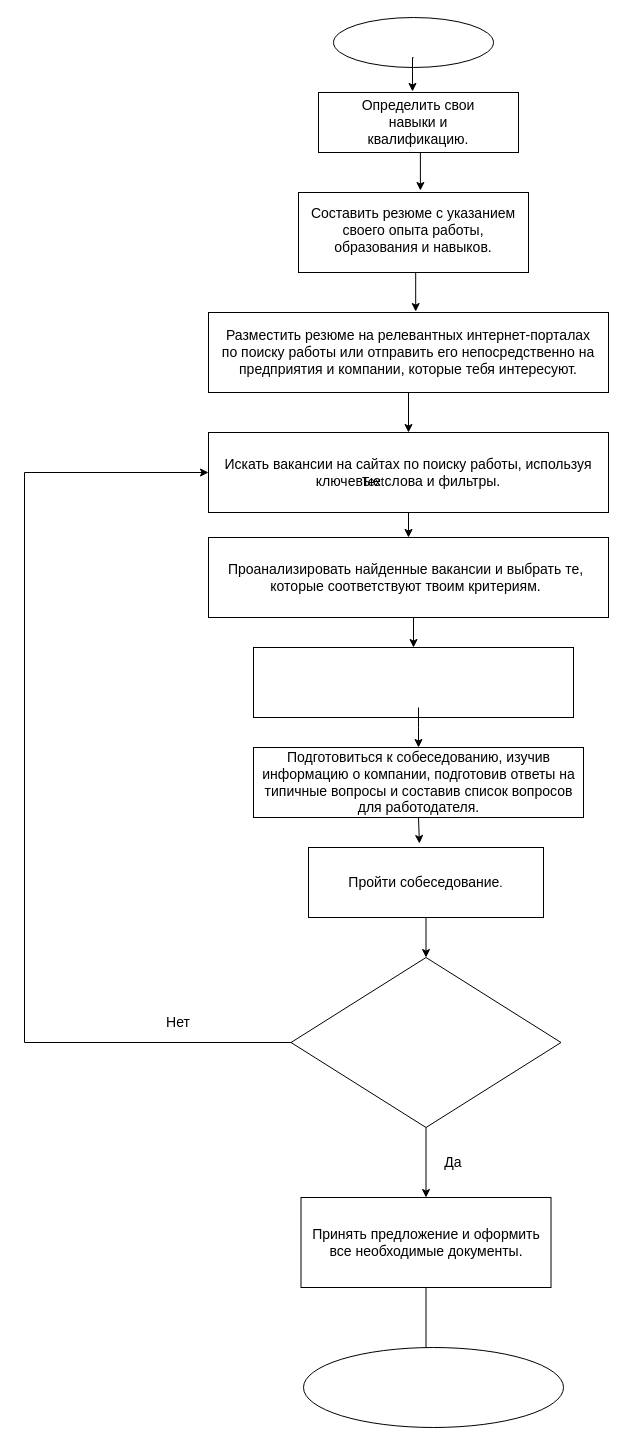
Some shapes in this 626 by 1445 pixel diagram are drawn without their labels. The centre of each missing label's shape, as x and y in pixels:
"Закончить поиск работы." belongs at point 433,1387.
"Начать поиск работы." belongs at point 413,42.
"Отправить свое резюме на выбранные вакансии." belongs at point 413,682.
"Предложение о работе соответствует твоим ожиданиям?" belongs at point 425,1042.
